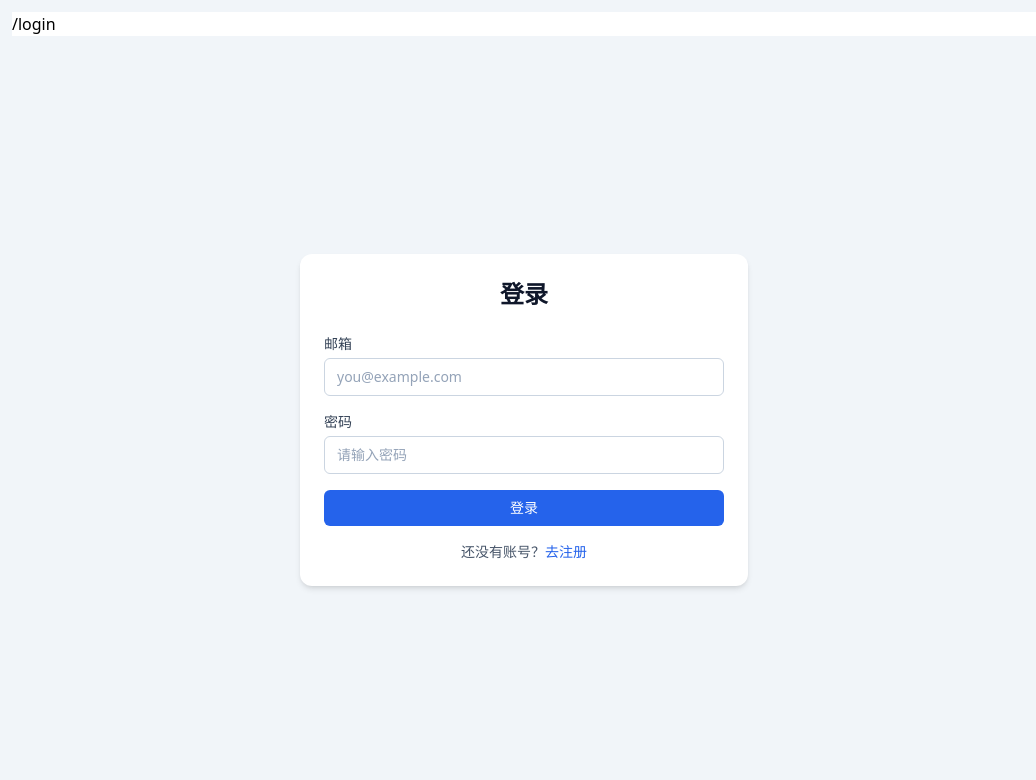
Test: LoginPage › 空提交时显示 zod 校验错误
Click the button "登录".
click(524, 508)  # box [324, 490, 724, 526]
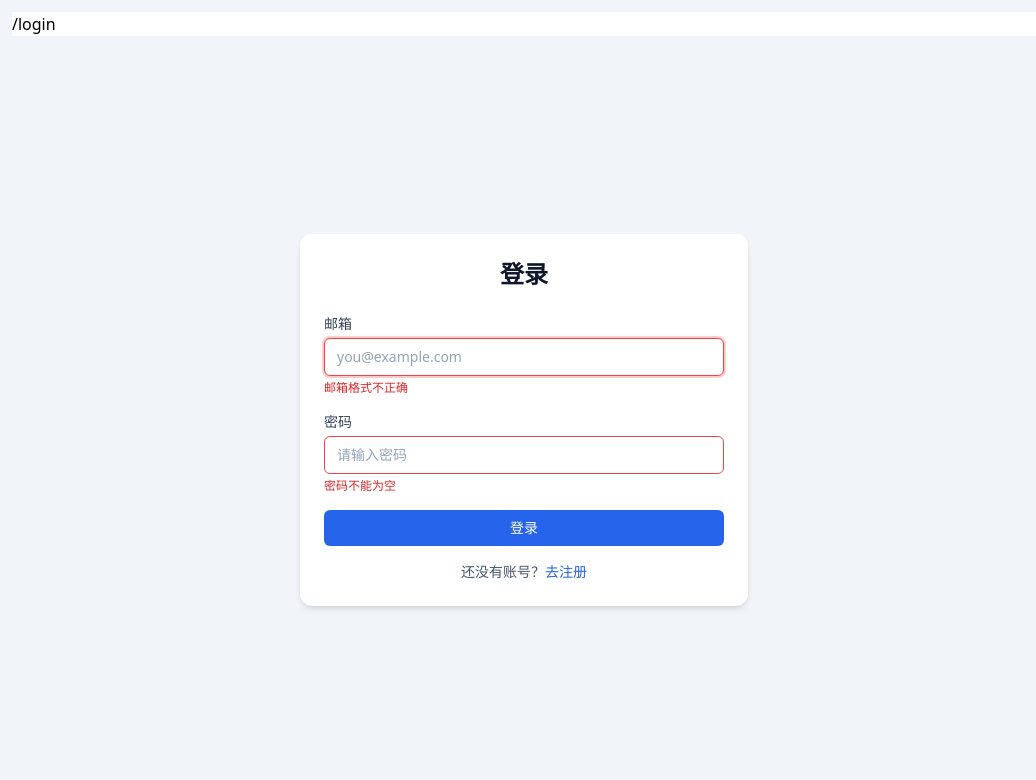
expect the text with test id "location" reads "/login": met, box [12, 13, 56, 35]
expect the text "邮箱格式不正确" is shown: met, box [324, 379, 408, 396]
expect the text "密码不能为空" is shown: met, box [324, 477, 396, 494]
